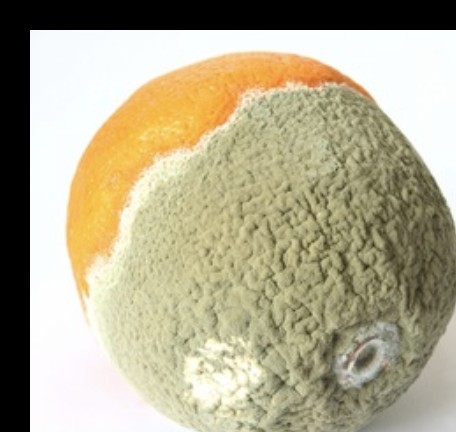rotten_orange: (70, 54, 456, 432)
